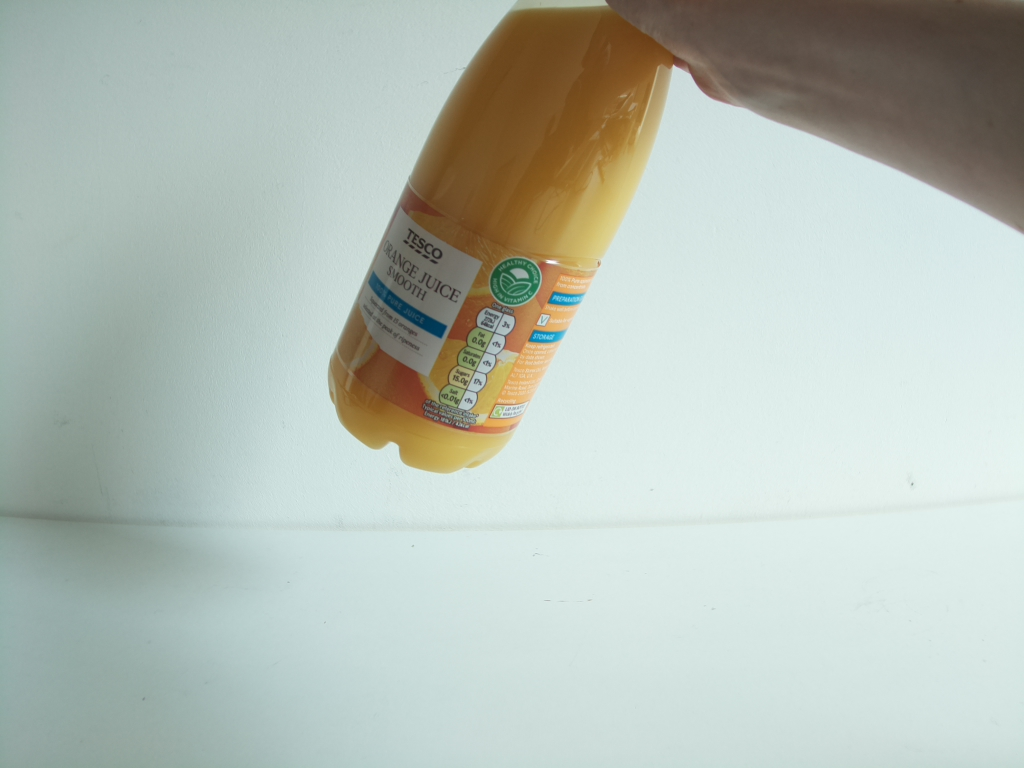juice: (329, 1, 684, 477)
